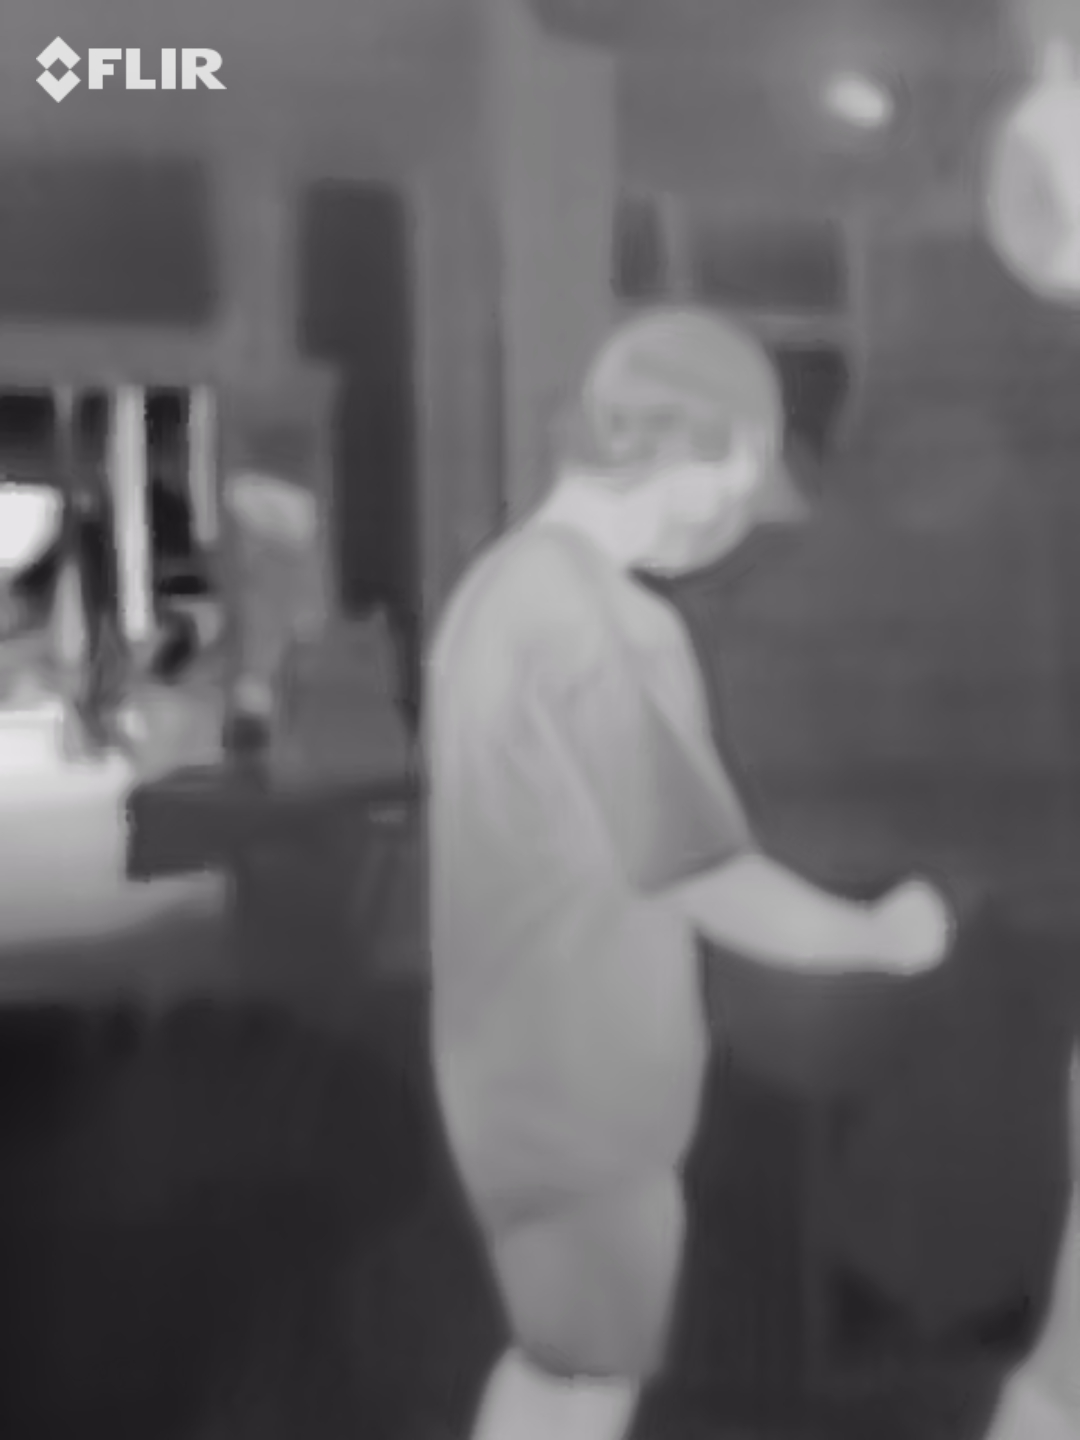head: (553, 306, 789, 586)
